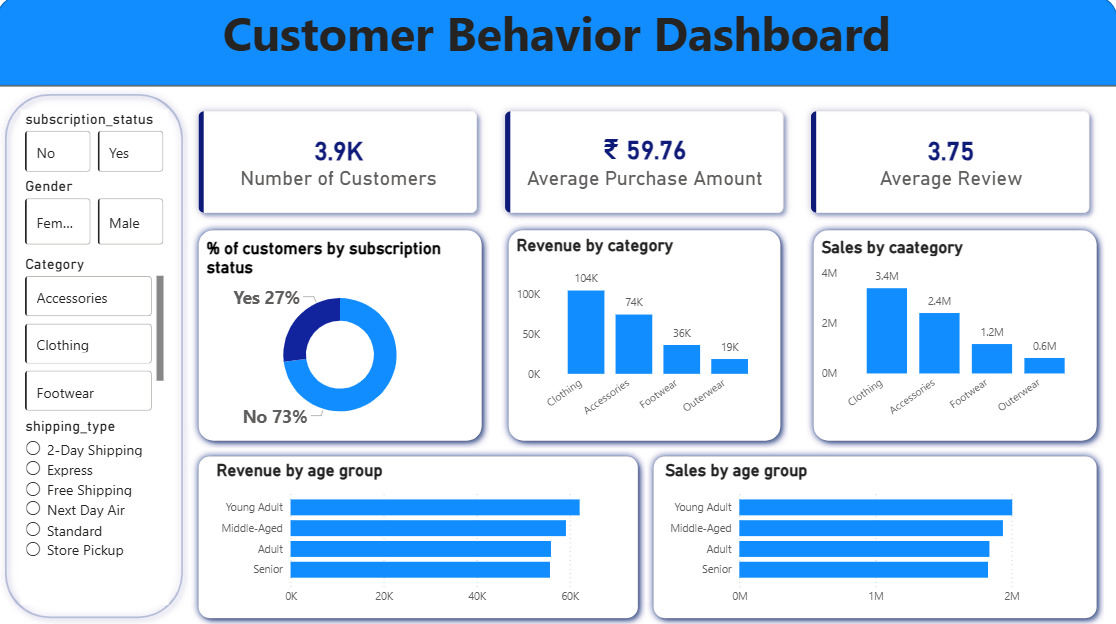

The dashboard page shown, as its layout file describes it:
{"tool":"powerbi","page":{"name":"Page 1","canvas":[1280,720],"ordinal":0},"visuals":[{"type":"cardVisual","fields":{"Data":["public customer_behavior.Number of Customers","public customer_behavior.Average Purchase Amount","public customer_behavior.Average Review"]},"box":[201.4,102.9,1078.6,174.3],"z":0},{"type":"shape","box":[0,0,1280.2,102.3],"z":1000},{"type":"textbox","box":[0,0,1280,102.9],"z":2000},{"type":"shape","box":[221.4,258.6,341.4,258.6],"z":3000},{"type":"donutChart","title":"% of  customers by subscription status","fields":{"Category":["public customer_behavior.subscription_status"],"Y":["Count(public customer_behavior.customer_id)"]},"box":[234.3,277.1,315.7,222.9],"z":4000},{"type":"shape","box":[575.7,258.6,328.6,258.6],"z":5000},{"type":"clusteredColumnChart","title":"Revenue by category","fields":{"Y":["Sum(public customer_behavior.purchase_amount)"],"Category":["public customer_behavior.category"]},"box":[588.6,274.3,298.6,225.7],"z":6000},{"type":"shape","box":[924.3,258.6,341.4,258.6],"z":7000},{"type":"clusteredColumnChart","title":"Sales by caategory","fields":{"Category":["public customer_behavior.category"],"Y":["Sum(public customer_behavior.customer_id)"]},"box":[937.1,275.7,314.3,222.9],"z":8000},{"type":"shape","box":[0,102.9,221.4,617.1],"z":9000},{"type":"advancedSlicerVisual","fields":{"Values":["public customer_behavior.subscription_status"]},"box":[27.1,130,168.6,77.1],"z":10000},{"type":"advancedSlicerVisual","title":"Gender","fields":{"Values":["public customer_behavior.gender"]},"box":[27.1,207.1,168.6,82.9],"z":11000},{"type":"advancedSlicerVisual","title":"Category","fields":{"Values":["public customer_behavior.category"]},"box":[27.1,295.7,168.6,185.7],"z":12000},{"type":"listSlicer","fields":{"Values":["public customer_behavior.shipping_type"]},"box":[27.1,481.4,168.6,214.3],"z":12001},{"type":"shape","box":[221.4,517.1,520,202.9],"z":12003},{"type":"clusteredBarChart","title":"Revenue by age group","fields":{"Y":["Sum(public customer_behavior.purchase_amount)"],"Category":["public customer_behavior.age_group"]},"box":[245.7,531.4,477.1,172.9],"z":12004},{"type":"shape","box":[741.4,517.1,524.3,202.9],"z":12005},{"type":"clusteredBarChart","title":"Sales by age group","fields":{"Y":["Sum(public customer_behavior.customer_id)"],"Category":["public customer_behavior.age_group"]},"box":[758.6,531.4,492.9,172.9],"z":12006}]}

Visuals, with their boxes in screenshot pixels (x1, y1, x2, y2), scaled from the page's 1280x720 canvas onto the 1116x624 screenshot:
cardVisual - public customer_behavior.Number of Customers x public customer_behavior.Average Purchase Amount: 176 89 1115 240
shape: 0 0 1115 89
textbox: 0 0 1115 89
shape: 193 224 491 448
"% of  customers by subscription status" donutChart: 204 240 480 433
shape: 502 224 788 448
"Revenue by category" clusteredColumnChart: 513 238 774 433
shape: 806 224 1104 448
"Sales by caategory" clusteredColumnChart: 817 239 1091 432
shape: 0 89 193 623
advancedSlicerVisual - public customer_behavior.subscription_status: 24 113 171 179
"Gender" advancedSlicerVisual: 24 179 171 251
"Category" advancedSlicerVisual: 24 256 171 417
listSlicer - public customer_behavior.shipping_type: 24 417 171 603
shape: 193 448 646 623
"Revenue by age group" clusteredBarChart: 214 461 630 610
shape: 646 448 1104 623
"Sales by age group" clusteredBarChart: 661 461 1091 610
